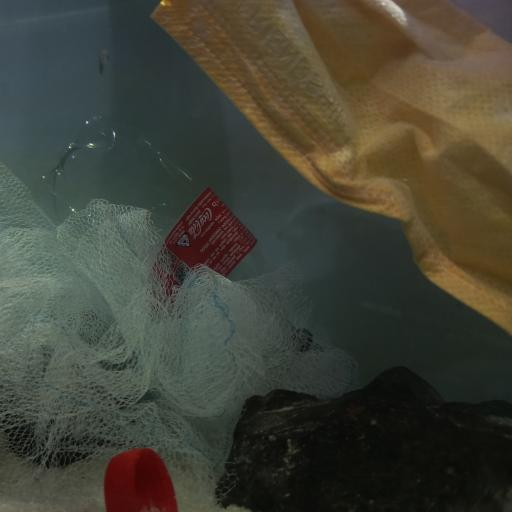bottle_cap: (103, 447, 178, 512)
mask: (148, 0, 512, 333)
net: (0, 160, 364, 501)
plastic_bottle: (32, 115, 320, 353)
